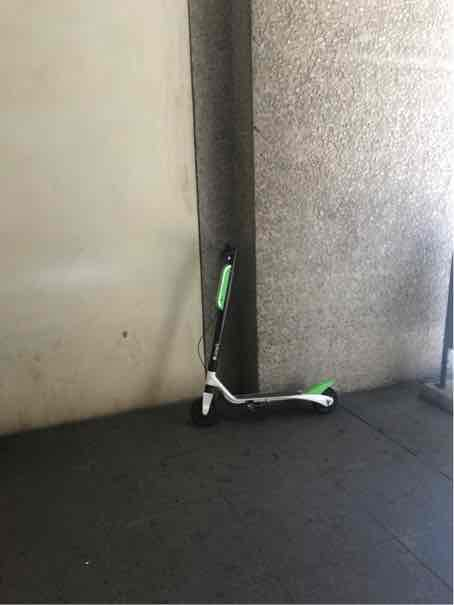scooter: (185, 226, 347, 427)
